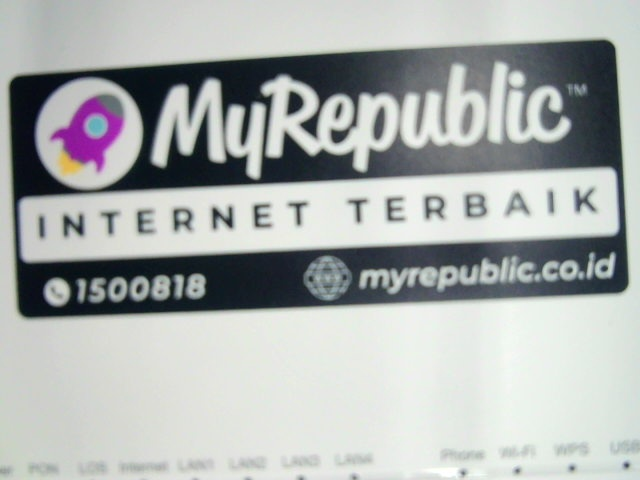BD_MyRepublic: (5, 37, 629, 313)
